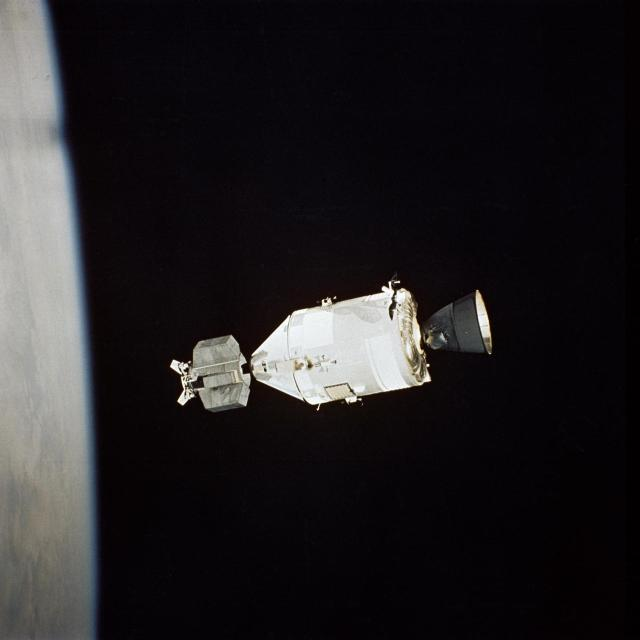medium_debris: (171, 278, 492, 411)
